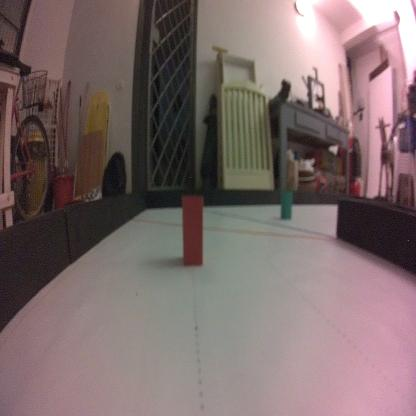green: (280, 191, 292, 223)
red: (180, 189, 206, 270)
